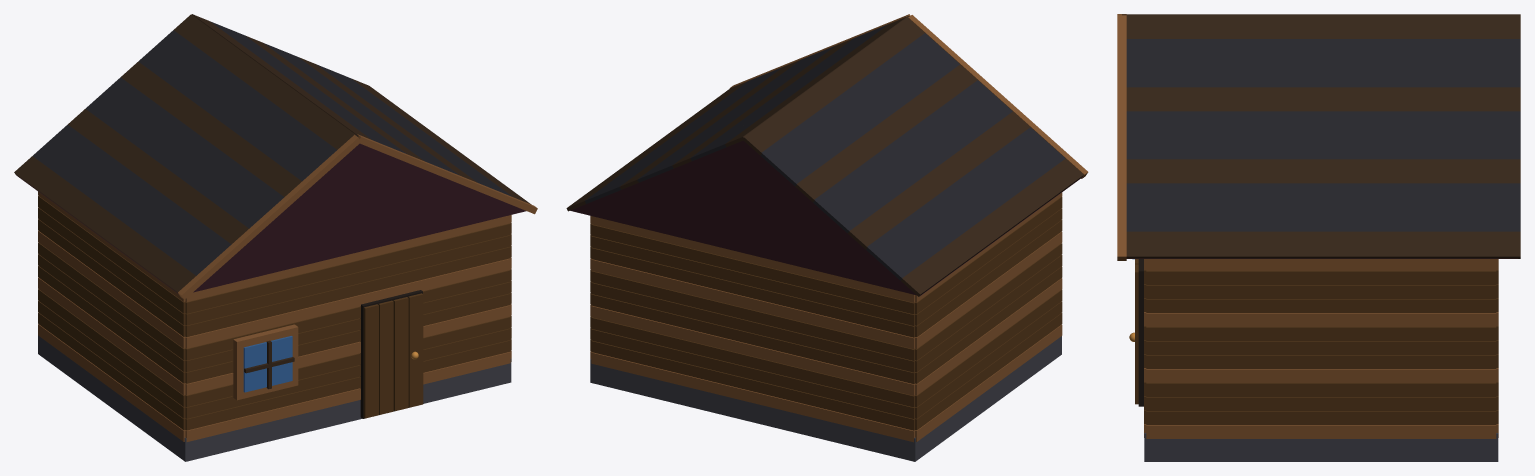
File: mia-house.glb
The picture shows the model from 3 angles, left to right: view 1: azimuth 30°, elevation 25°; view 2: azimuth 150°, elevation 25°; view 3: azimuth 270°, elevation 25°; orthographic projection. The views are drawn at different scales.
Visible parts, largest first — view 1: Body_wood, Body_iron, Body_oak, Body_grain, Body_dark, Body_stone, Body_night-glass, Body_black; view 2: Body_wood, Body_iron, Body_grain, Body_oak, Body_dark, Body_stone; view 3: Body_iron, Body_wood, Body_grain, Body_oak, Body_stone, Body_black.
Boxes of the visible parts, x1,y1,x2,y2 form: Body_wood: [38, 196, 511, 430]; Body_iron: [33, 21, 512, 275]; Body_oak: [38, 134, 537, 441]; Body_grain: [14, 14, 531, 389]; Body_dark: [16, 143, 526, 293]; Body_stone: [38, 335, 511, 461]; Body_night-glass: [243, 336, 292, 392]; Body_black: [360, 290, 422, 418]; Body_wood: [590, 196, 1062, 430]; Body_iron: [585, 24, 1065, 280]; Body_grain: [566, 15, 1083, 296]; Body_oak: [590, 14, 1088, 442]; Body_dark: [570, 140, 1082, 295]; Body_stone: [590, 336, 1061, 461]; Body_iron: [1126, 39, 1520, 231]; Body_wood: [1135, 259, 1498, 424]; Body_grain: [1122, 14, 1520, 258]; Body_oak: [1117, 14, 1498, 438]; Body_stone: [1144, 433, 1498, 461]; Body_black: [1138, 259, 1143, 406].
Size of the model in its own units: 5.05 by 3.97 by 4.13.
